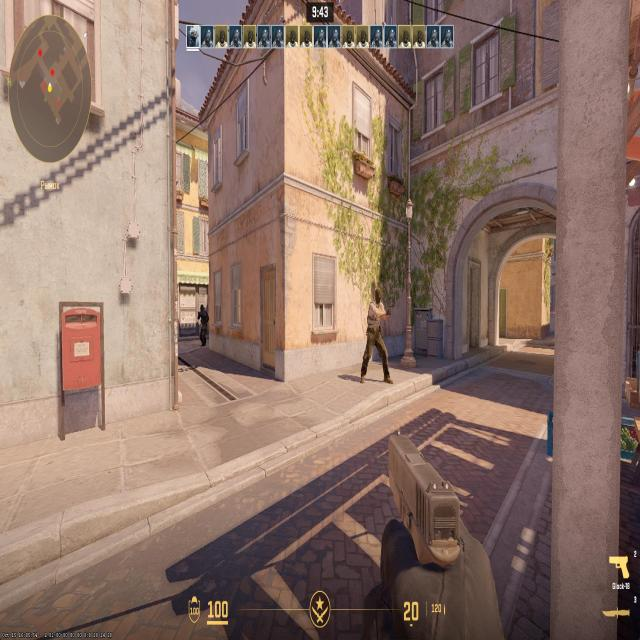CT: (200, 306, 207, 346)
CT_heat: (200, 306, 203, 312)
T: (369, 288, 388, 377)
T_heat: (377, 290, 382, 314)
